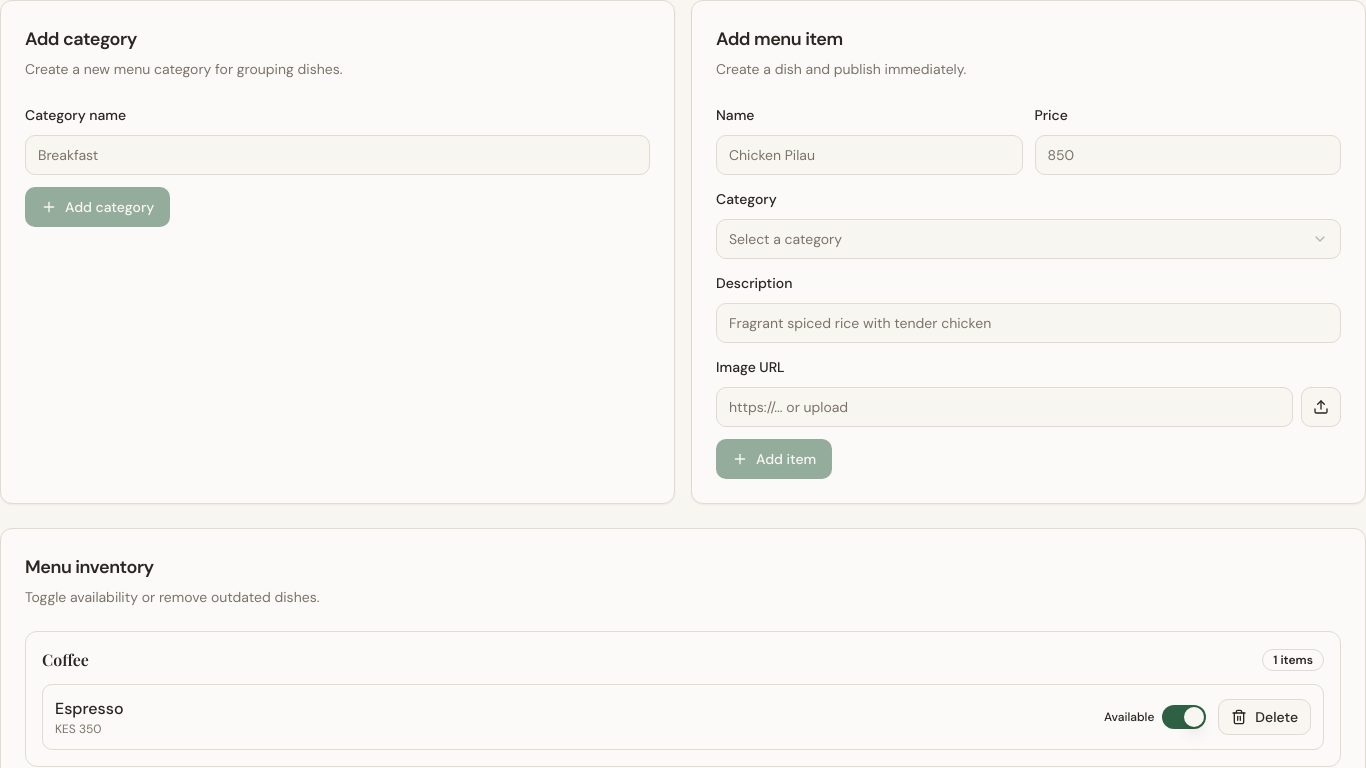
AdminMenuPage › enables add category button when input has text
Type "Desserts" into the field labelled "Category name". click: coordinates (338, 155)
box: x1=25 y1=135 x2=650 y2=175
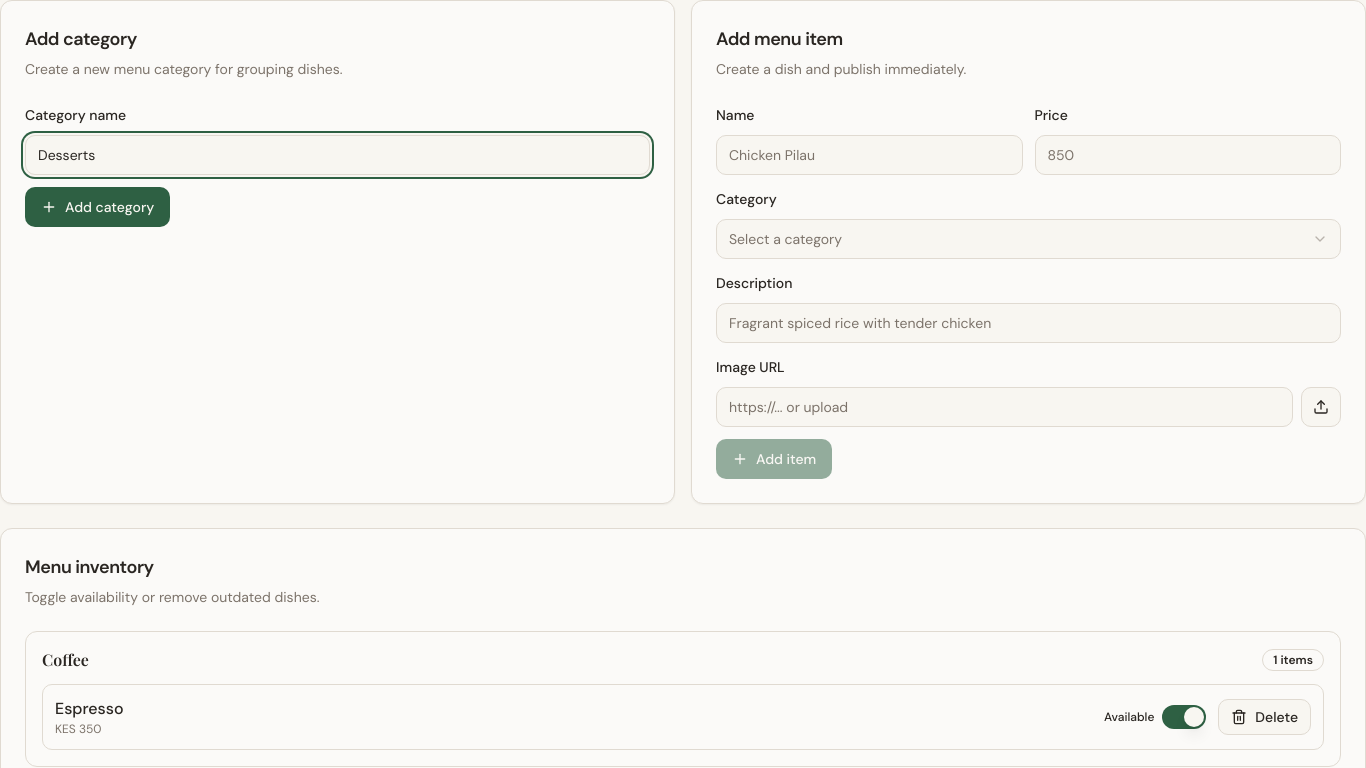
Expected: the button "Add category" is enabled, x1=25 y1=187 x2=170 y2=227
